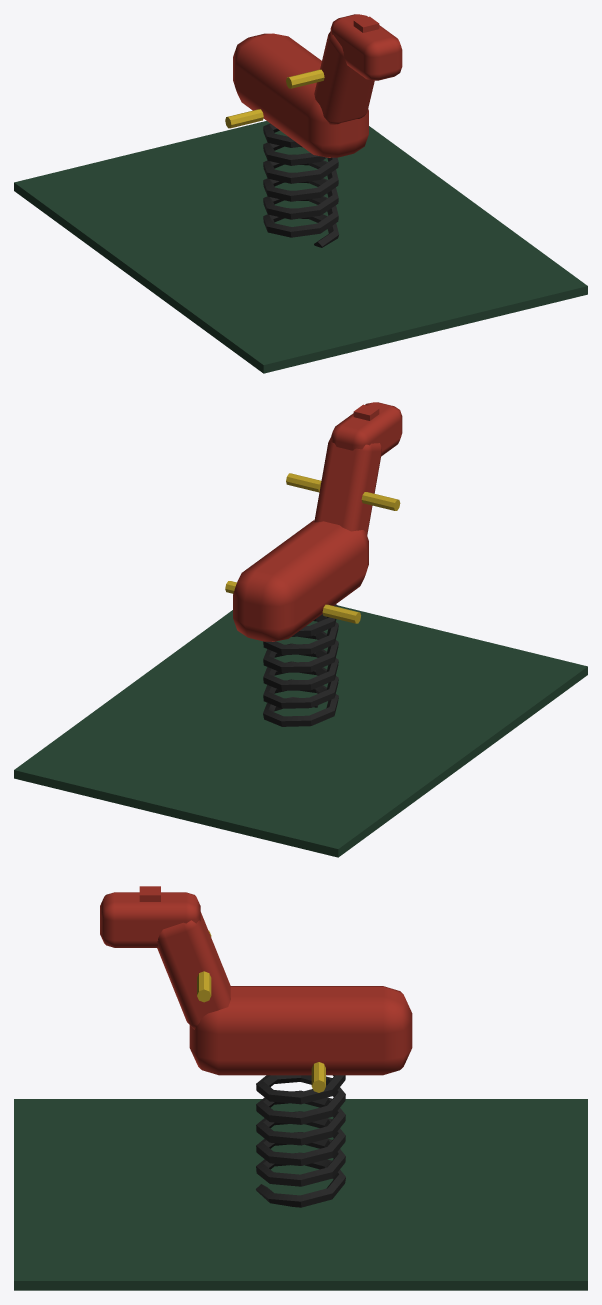
The model's file is sport.play.springer_pony.glb.
3 renders of one model, top to bottom at view 1: azimuth 30°, elevation 25°; view 2: azimuth 150°, elevation 25°; view 3: azimuth 270°, elevation 25°, orthographic. The views are drawn at different scales.
Visible parts, largest first — view 1: main__paint_243, main__paint_a32, main__steel_222, main__paint_ca2; view 2: main__paint_243, main__paint_a32, main__steel_222, main__paint_ca2; view 3: main__paint_243, main__paint_a32, main__steel_222, main__paint_ca2.
Part boxes in pixels (<box>): main__paint_243: <box>14,121,587,373</box>; main__paint_a32: <box>233,14,402,157</box>; main__steel_222: <box>263,123,338,247</box>; main__paint_ca2: <box>225,69,324,128</box>; main__paint_243: <box>14,605,587,857</box>; main__paint_a32: <box>233,402,402,641</box>; main__steel_222: <box>263,604,338,726</box>; main__paint_ca2: <box>225,473,400,623</box>; main__paint_243: <box>14,1099,587,1290</box>; main__paint_a32: <box>100,886,412,1075</box>; main__steel_222: <box>256,1075,345,1207</box>; main__paint_ca2: <box>197,930,325,1092</box>.
Bounding box in the file's own units: 1.2 × 0.954 × 1.6.
